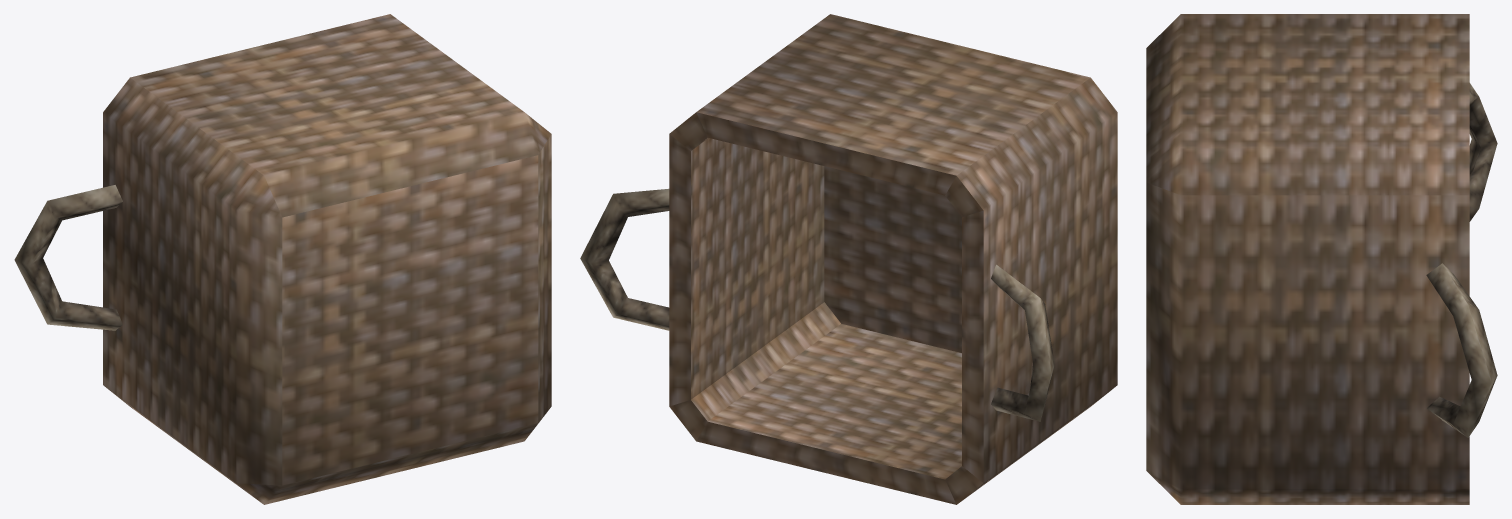
File: Basket_Square_A.fbx
The picture shows the model from 3 angles, left to right: view 1: azimuth 30°, elevation 25°; view 2: azimuth 150°, elevation 25°; view 3: azimuth 270°, elevation 25°; orthographic projection. The views are drawn at different scales.
Visible parts, largest first — view 1: Basket_Square_A; view 2: Basket_Square_A; view 3: Basket_Square_A.
Boxes of the visible parts, x1,y1,x2,y2 form: Basket_Square_A: (14, 14, 551, 504); Basket_Square_A: (580, 14, 1117, 504); Basket_Square_A: (1146, 14, 1497, 504).
Bounding box in the file's own units: 0.9892 × 0.6604 × 0.5934.
